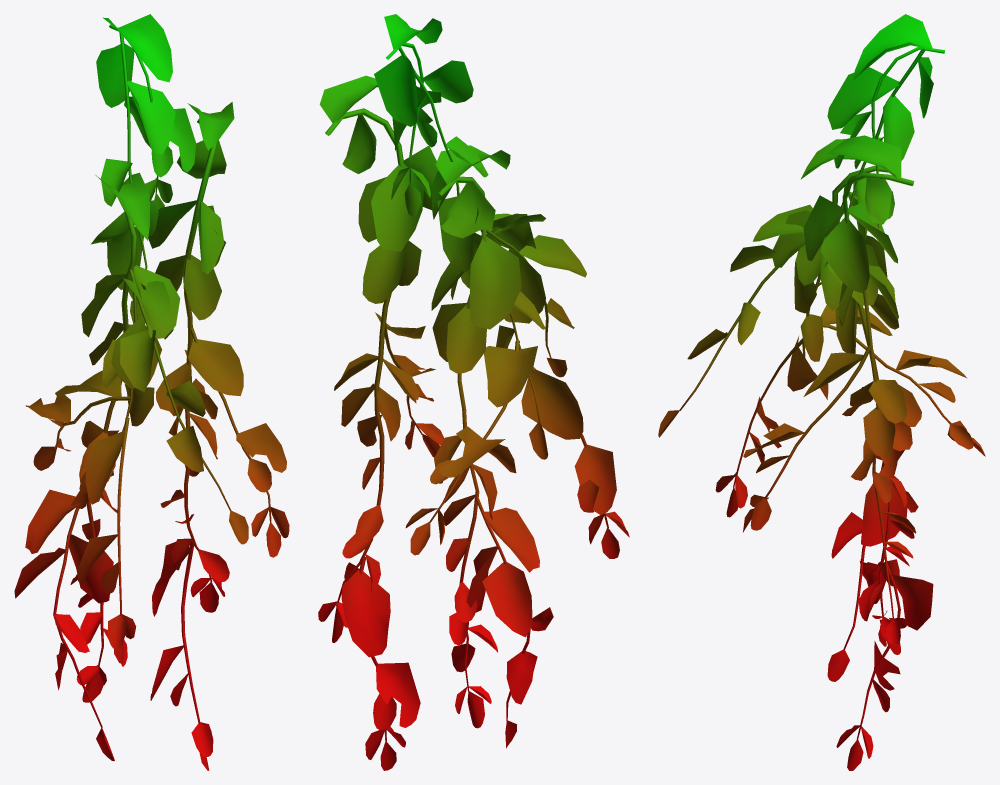
The model's file is Var12_LOD1.fbx.
3 renders of one model, left to right at view 1: azimuth 30°, elevation 25°; view 2: azimuth 150°, elevation 25°; view 3: azimuth 270°, elevation 25°, orthographic. The views are drawn at different scales.
Visible parts, largest first — view 1: _7ztk_Var12_LOD1; view 2: _7ztk_Var12_LOD1; view 3: _7ztk_Var12_LOD1.
Boxes of the visible parts, box(x1,y1,x2,y2) form: _7ztk_Var12_LOD1: box(14, 14, 289, 770); _7ztk_Var12_LOD1: box(318, 14, 629, 770); _7ztk_Var12_LOD1: box(658, 14, 985, 770).
Bounding box in the file's own units: 23.12 × 76.84 × 31.54.
